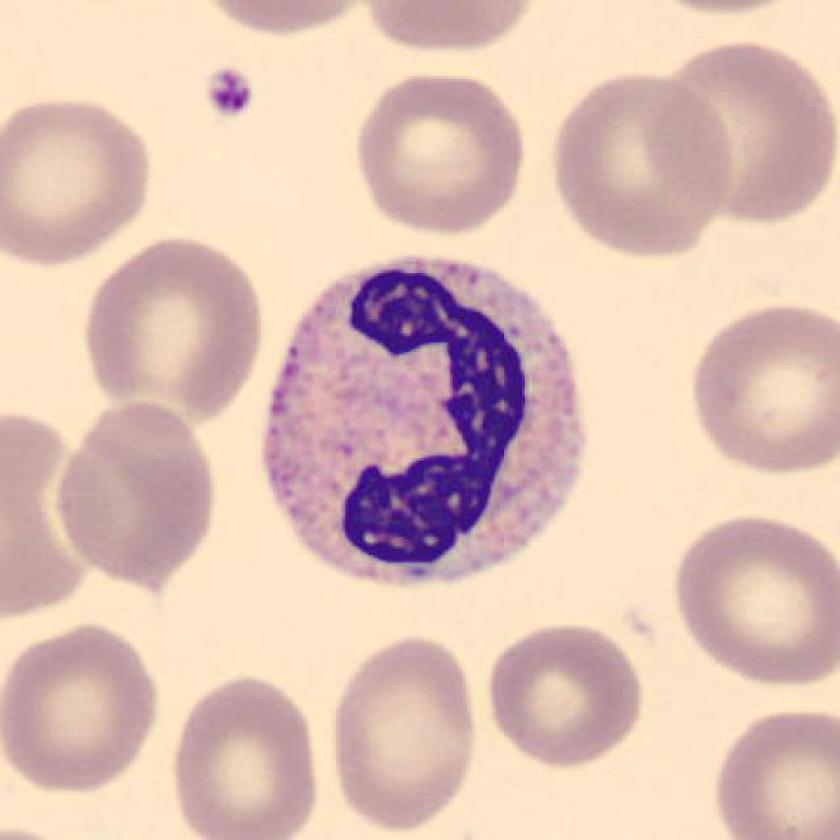neutrophil: (267, 257, 585, 586)
